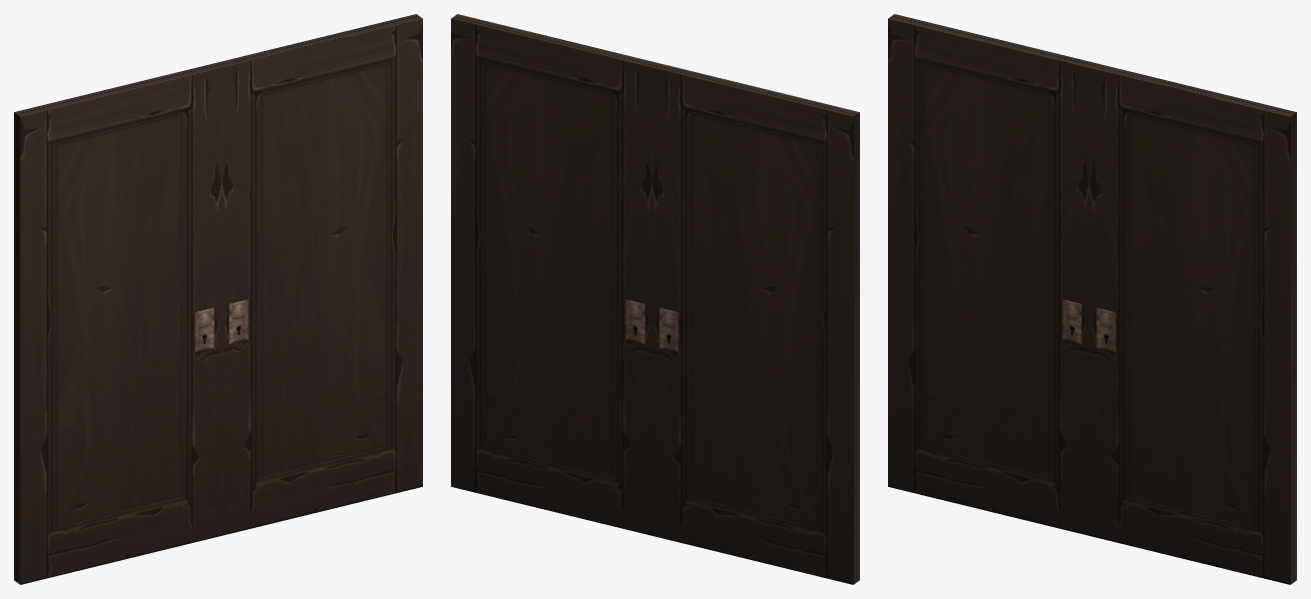
The model's file is door.glb.
The picture shows the model from 3 angles, left to right: view 1: azimuth 30°, elevation 25°; view 2: azimuth 150°, elevation 25°; view 3: azimuth 330°, elevation 25°; orthographic projection.
Bounding box in the file's own units: 7.09 × 7.87 × 0.1969.
Materials: 1 (1 with a texture image).
